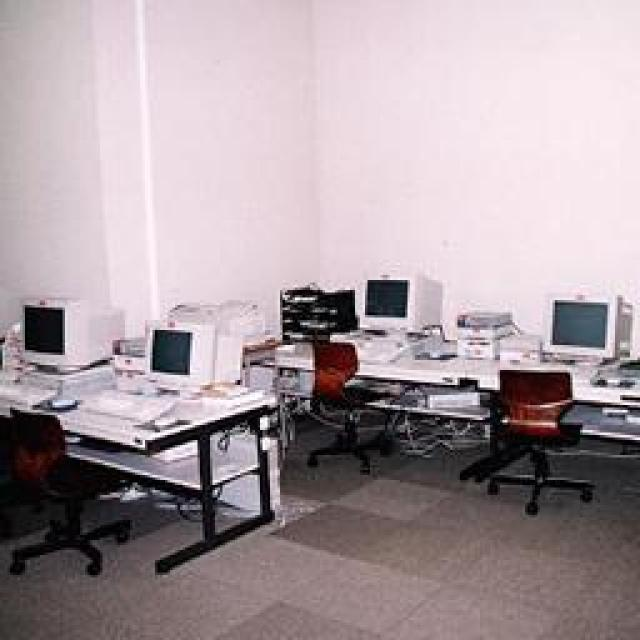chair: (483, 367, 595, 515)
tables: (0, 359, 282, 572)
television: (18, 295, 122, 373), (543, 295, 615, 360), (362, 275, 410, 333)
